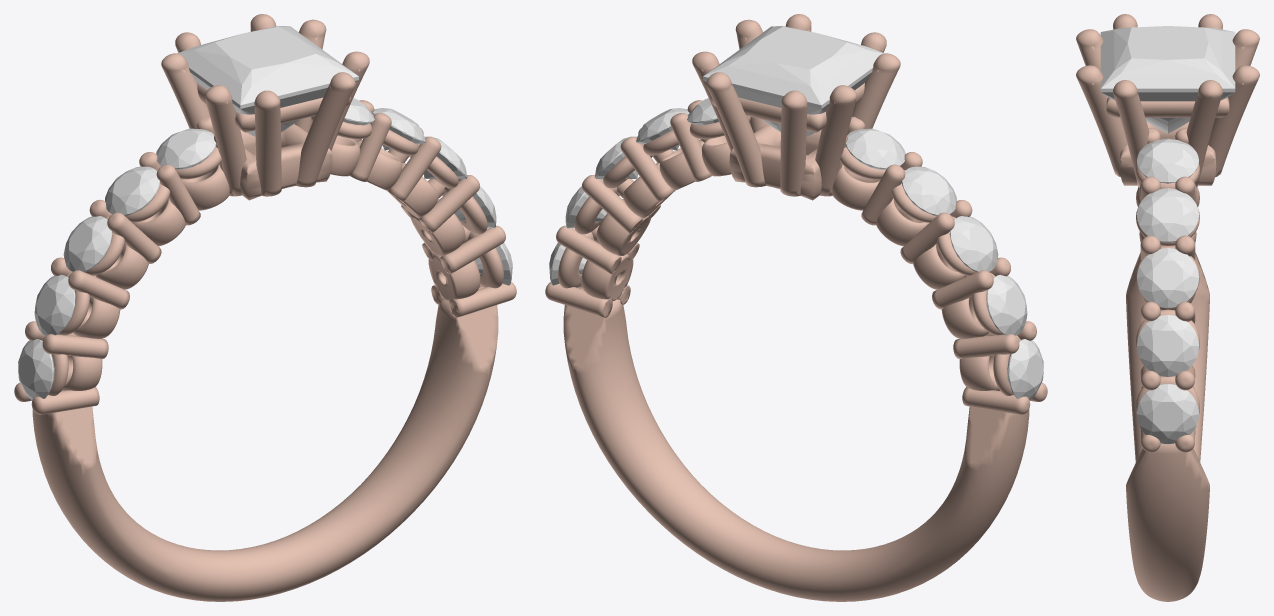
File: diamond-princess-rosegold-8prong-taperedband-11stone.glb
The picture shows the model from 3 angles, left to right: view 1: azimuth 30°, elevation 25°; view 2: azimuth 150°, elevation 25°; view 3: azimuth 270°, elevation 25°; orthographic projection.
Parts seen in each view (by area): view 1: metal, stone, side.002, side.003, side.001, side.004, side, side.006; view 2: metal, stone, side.002, side.003, side.001, side.004, side, side.006; view 3: metal, stone, side.008, side.007, side.009, side.006, side.005.
Boxes of the visible parts, box(x1,y1,x2,y2) form: metal: box(14, 14, 516, 601); stone: box(177, 26, 358, 136); side.002: box(63, 216, 112, 272); side.003: box(105, 166, 159, 215); side.001: box(34, 274, 75, 335); side.004: box(156, 128, 216, 169); side: box(18, 339, 54, 399); side.006: box(372, 108, 425, 150); metal: box(545, 14, 1047, 601); stone: box(703, 26, 884, 136); side.002: box(949, 216, 998, 272); side.003: box(902, 166, 956, 215); side.001: box(986, 274, 1027, 335); side.004: box(845, 128, 905, 169); side: box(1007, 339, 1043, 400); side.006: box(636, 108, 689, 150); metal: box(1076, 14, 1259, 601); stone: box(1100, 26, 1235, 133); side.008: box(1137, 315, 1198, 376); side.007: box(1137, 248, 1198, 308); side.009: box(1137, 383, 1198, 443); side.006: box(1137, 188, 1198, 242); side.005: box(1137, 138, 1198, 183).
Bounding box in the file's own units: 22.05 × 23.85 × 7.42.
